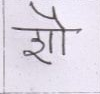au_matra: (43, 6, 73, 53)
